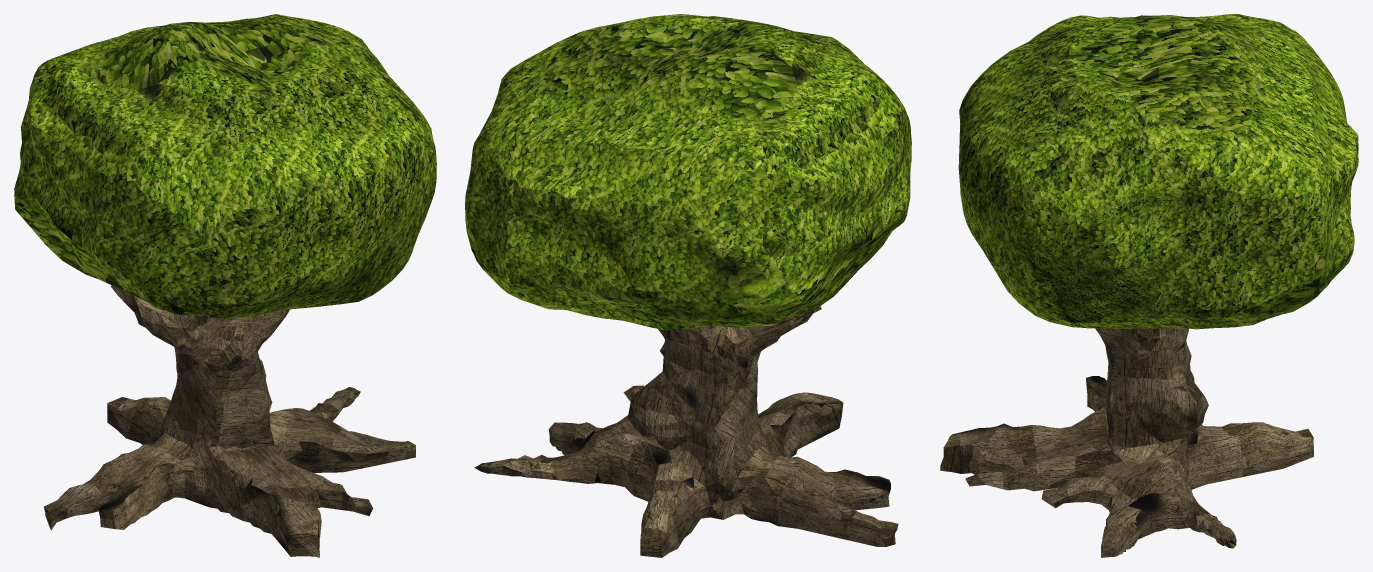
Rendered from monArbre.obj.
3 renders of one model, left to right at view 1: azimuth 30°, elevation 25°; view 2: azimuth 150°, elevation 25°; view 3: azimuth 270°, elevation 25°, orthographic. The views are drawn at different scales.
Visible parts, largest first — view 1: Feuillage_Cube; view 2: Feuillage_Cube; view 3: Feuillage_Cube.
Part boxes in pixels (x1,y1,x2,y2): Feuillage_Cube: (14,14,436,557); Feuillage_Cube: (465,14,911,557); Feuillage_Cube: (940,14,1358,557).
Size of the model in its own units: 6.78 by 8.03 by 6.85.
Materials: 2 (2 with a texture image).
